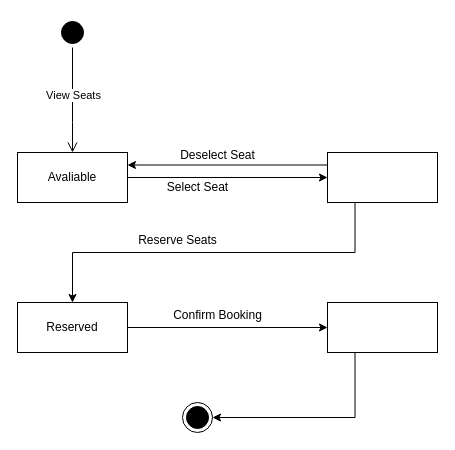
Some shapes in this 455 by 450 pixel diagram are drawn without their labels. Here are the shapes that lost their labels. From the top down, the centre of each, then its label:
point (382, 177): Selected
point (382, 327): Confirmed
